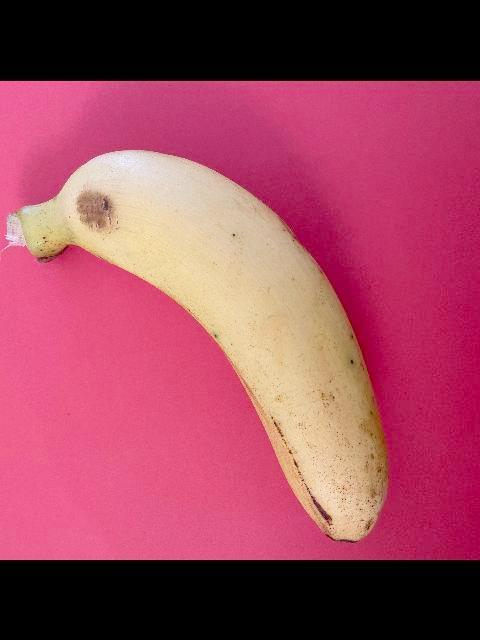banana: (4, 148, 392, 546)
